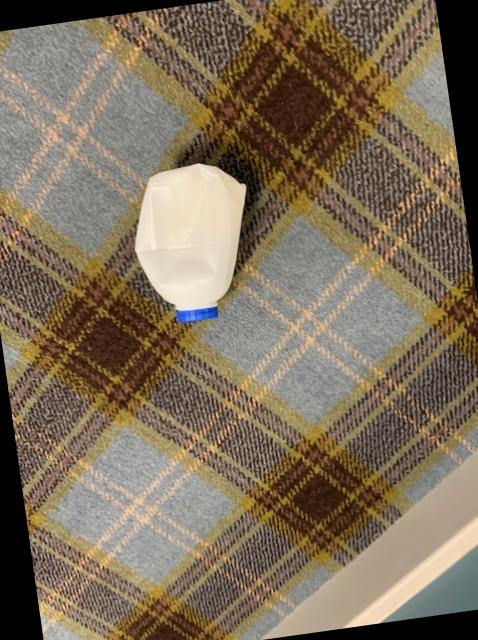plastic: (133, 162, 243, 320)
